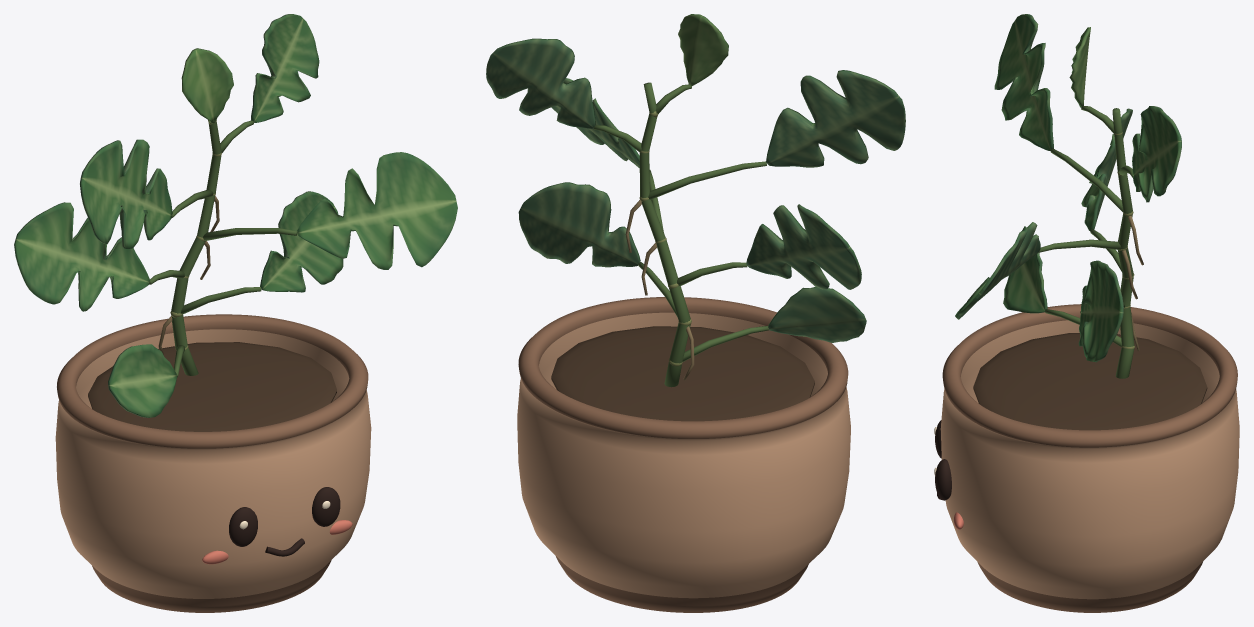
The model's file is mini-monstera-v1.glb.
The picture shows the model from 3 angles, left to right: view 1: azimuth 30°, elevation 25°; view 2: azimuth 150°, elevation 25°; view 3: azimuth 270°, elevation 25°; orthographic projection. The views are drawn at different scales.
Visible parts, largest first — view 1: Wheel-thrown ceramic, Foliage draw mesh, Soil, Eye, Eye.001; view 2: Wheel-thrown ceramic, Foliage draw mesh, Soil; view 3: Wheel-thrown ceramic, Foliage draw mesh, Soil, Eye.001.
Boxes of the visible parts, x1,y1,x2,y2 form: Wheel-thrown ceramic: (55, 314, 371, 612); Foliage draw mesh: (14, 14, 457, 417); Soil: (88, 342, 336, 431); Eye: (229, 507, 257, 546); Eye.001: (312, 487, 340, 526); Wheel-thrown ceramic: (517, 297, 850, 612); Foliage draw mesh: (486, 14, 905, 387); Soil: (551, 326, 814, 421); Wheel-thrown ceramic: (940, 304, 1239, 612); Foliage draw mesh: (955, 14, 1181, 378); Soil: (973, 333, 1207, 430); Eye.001: (935, 459, 951, 500).
Bounding box in the file's own units: 2.16 × 2.93 × 1.53.
